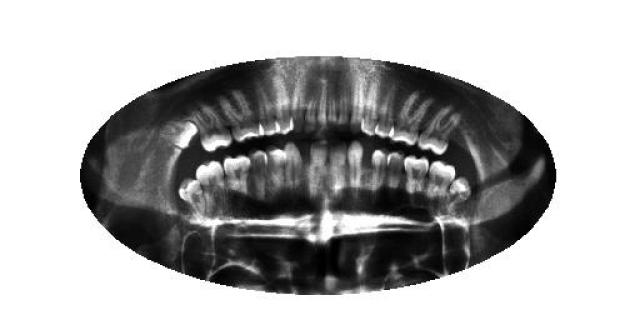Restorations: (160, 119, 199, 149)
